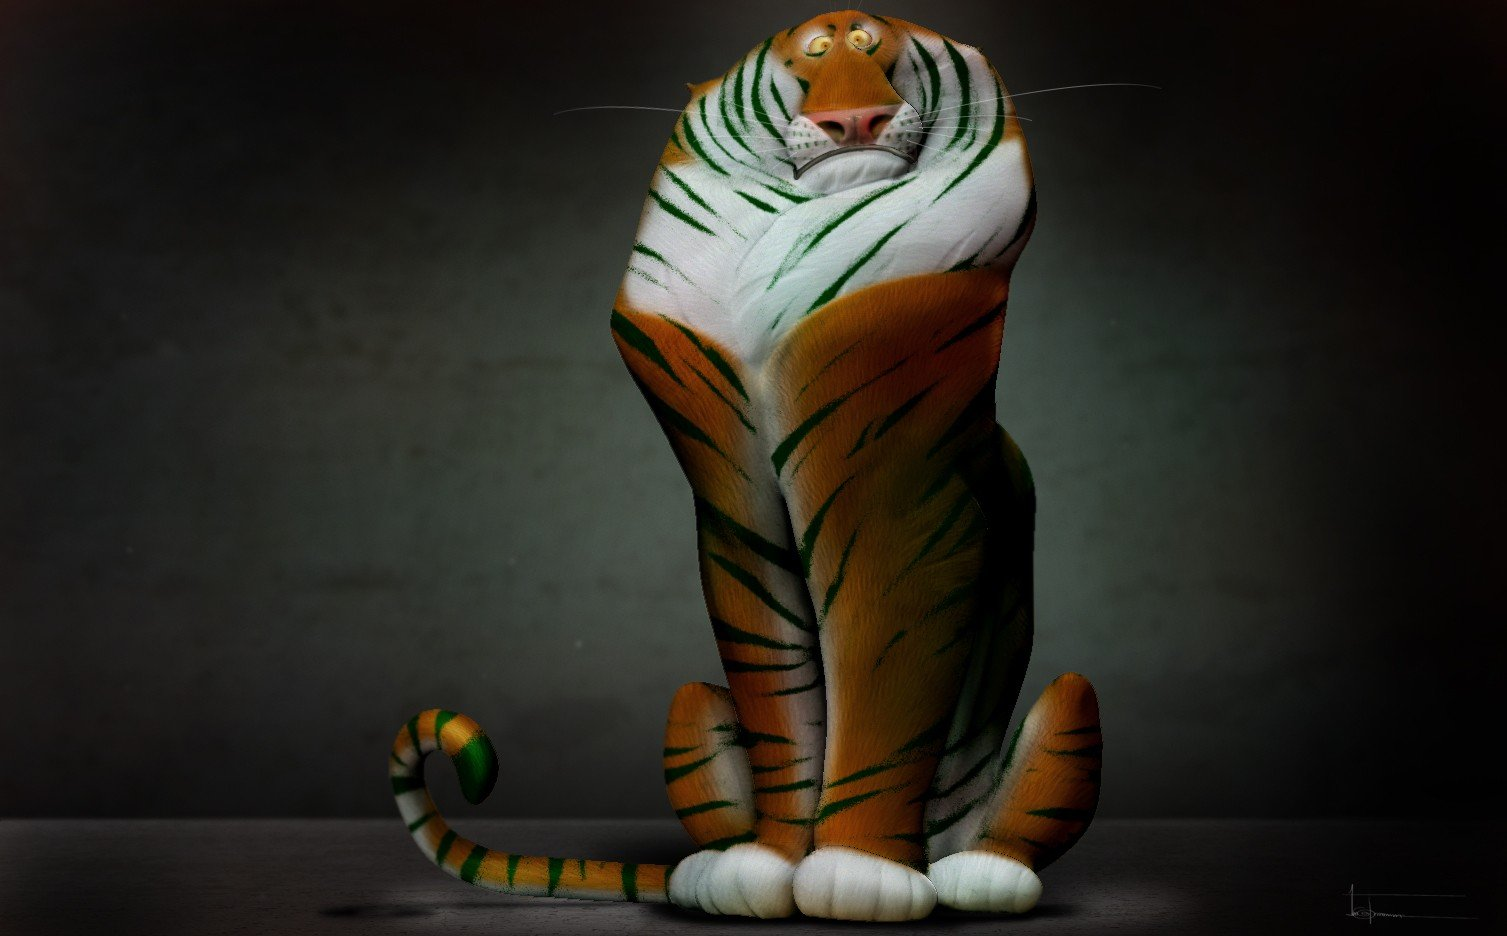Tigrew: (561, 15, 1129, 935)
